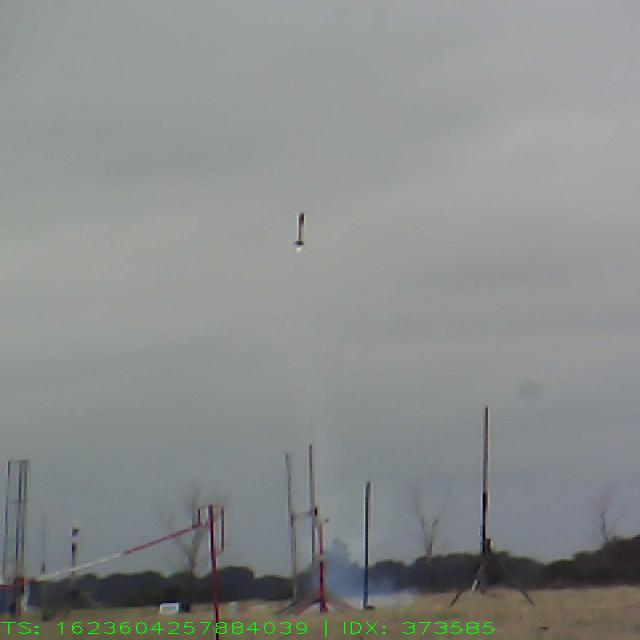Rocket: (293, 210, 307, 246)
